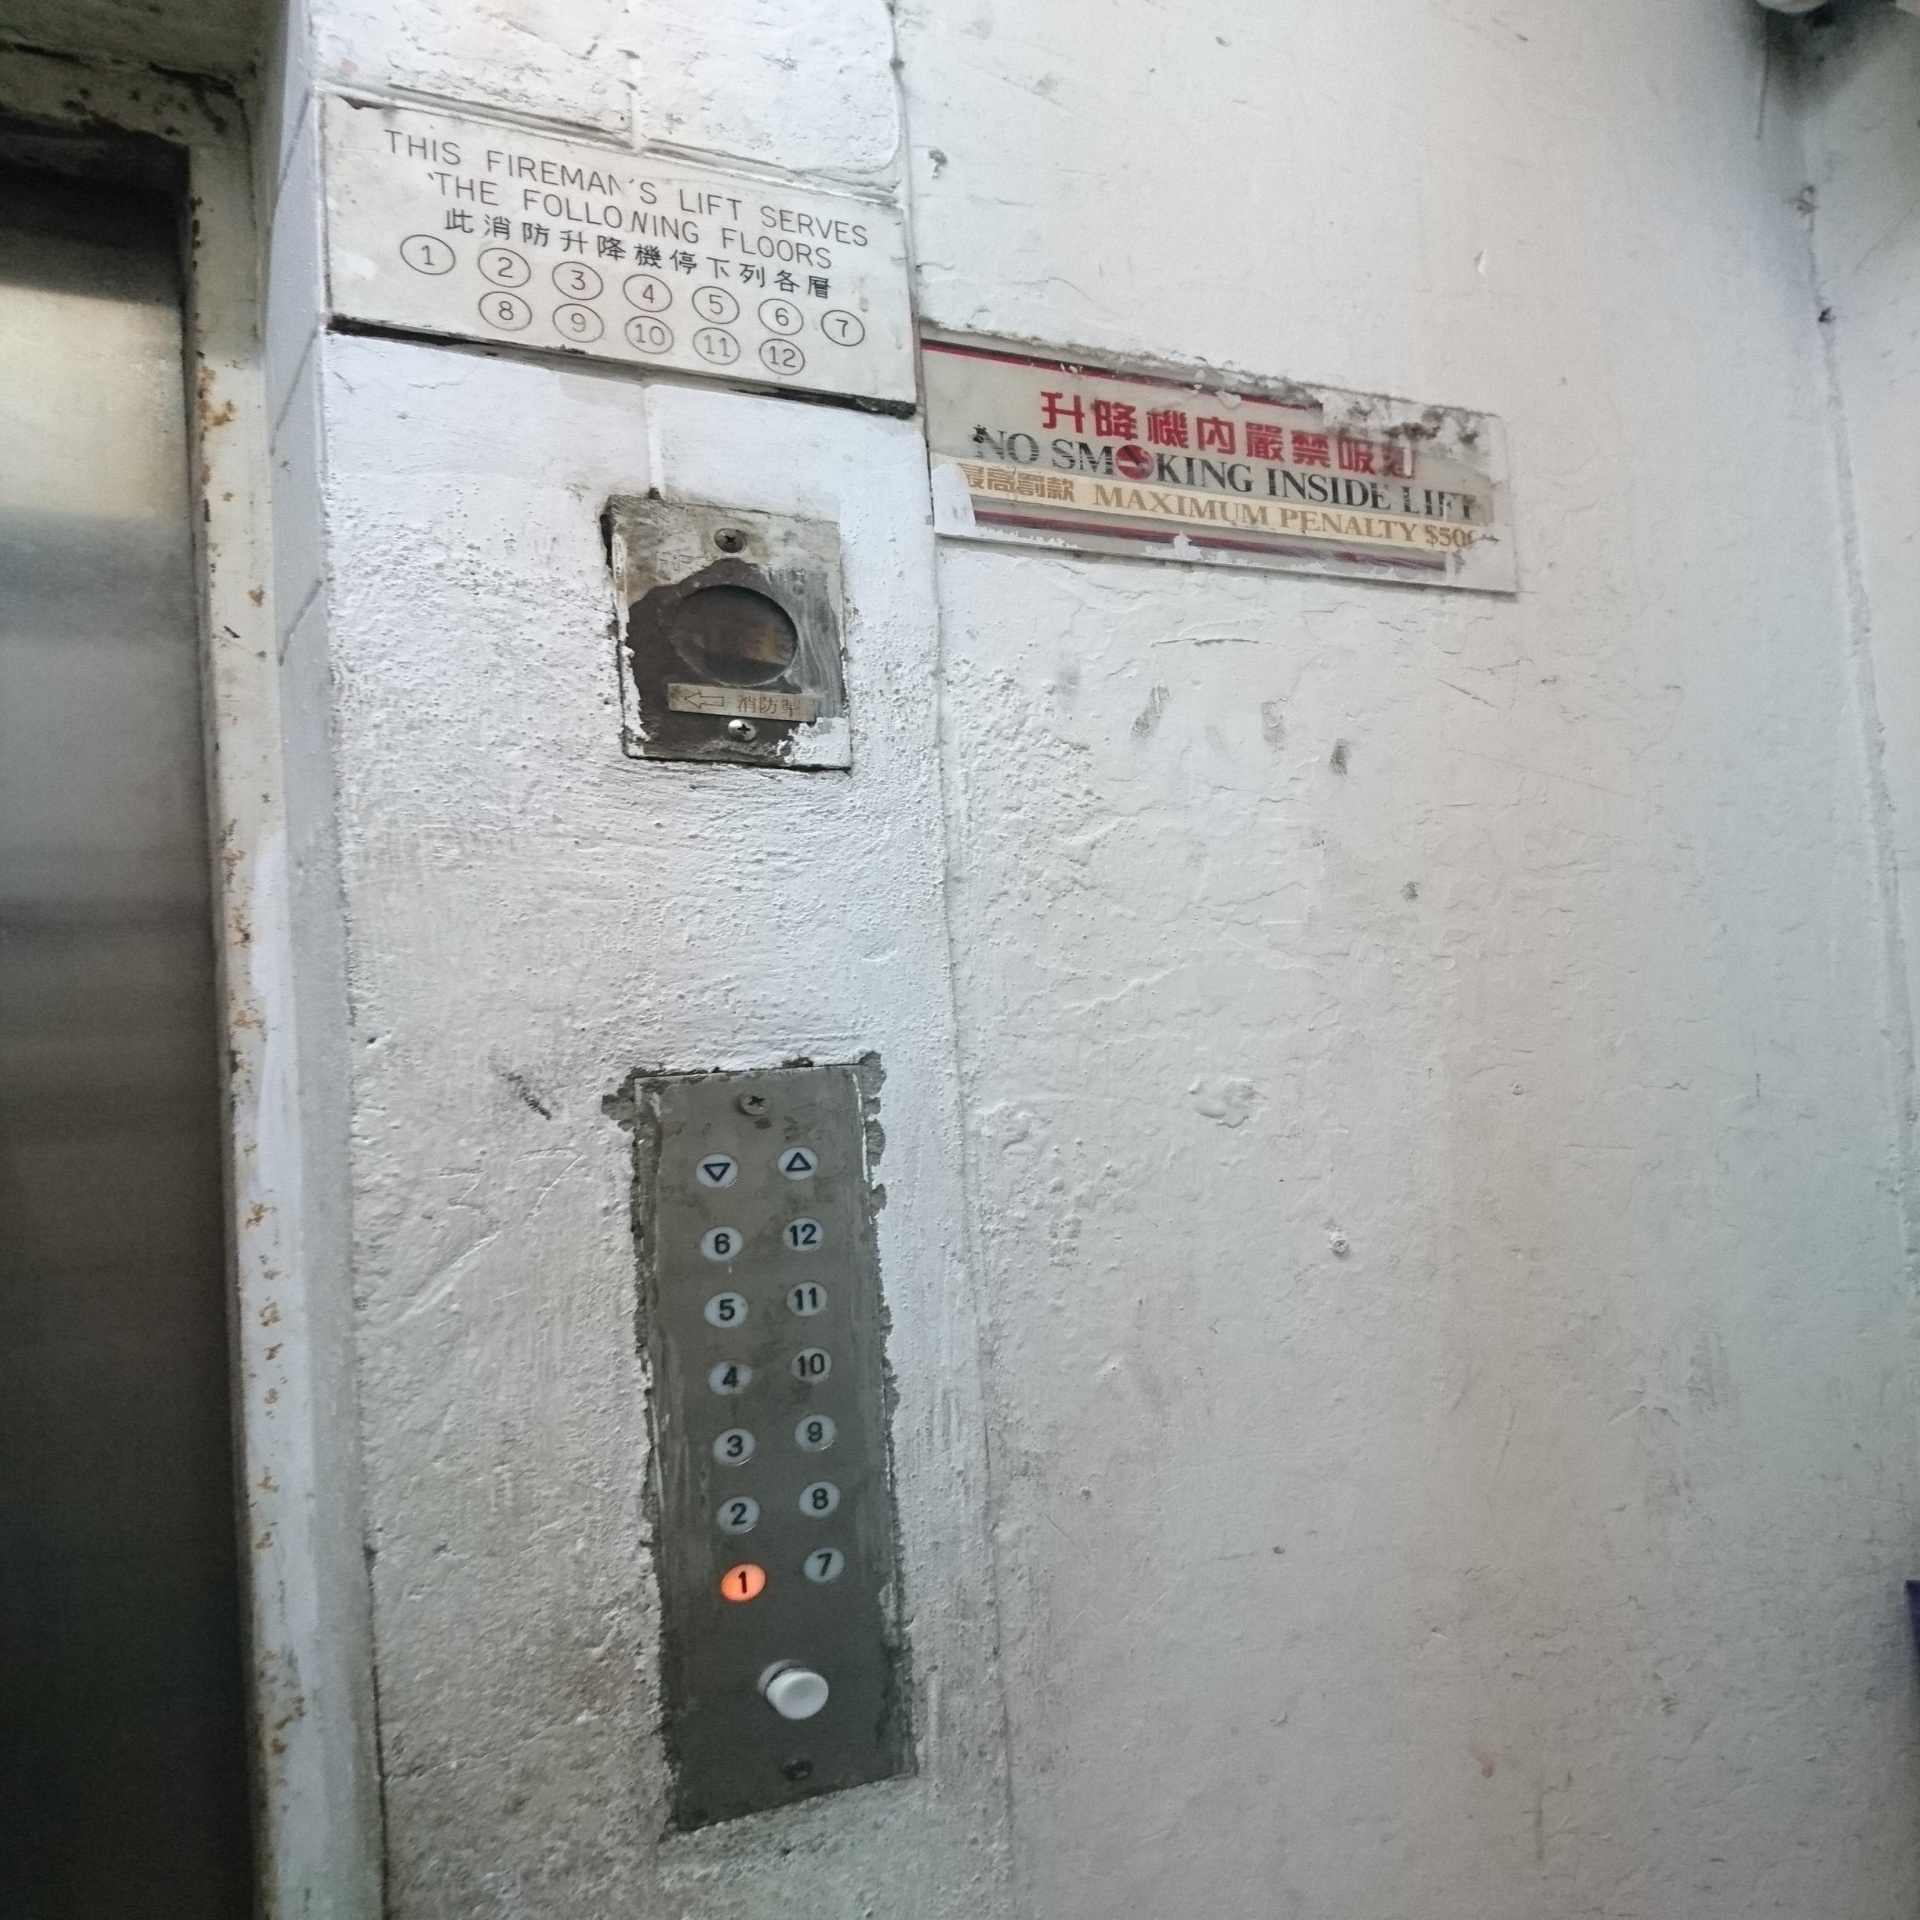1: (401, 234, 457, 278), (721, 1565, 767, 1602)
10: (624, 316, 673, 353), (789, 1349, 832, 1384)
11: (693, 325, 742, 366), (786, 1282, 826, 1315)
12: (758, 338, 805, 376), (782, 1217, 823, 1252)
2: (476, 246, 531, 287), (717, 1496, 760, 1533)
3: (550, 260, 603, 301), (710, 1428, 758, 1468)
4: (622, 273, 673, 315), (709, 1361, 753, 1394)
5: (703, 1291, 751, 1329), (693, 287, 738, 324)
6: (758, 299, 804, 336), (700, 1225, 744, 1261)
7: (821, 309, 865, 346), (802, 1547, 846, 1584)
8: (478, 292, 533, 331), (798, 1480, 842, 1517)
9: (552, 302, 603, 343), (793, 1414, 839, 1452)
down: (696, 1152, 740, 1190)
empty: (758, 1660, 828, 1721)
up: (777, 1146, 819, 1180)
